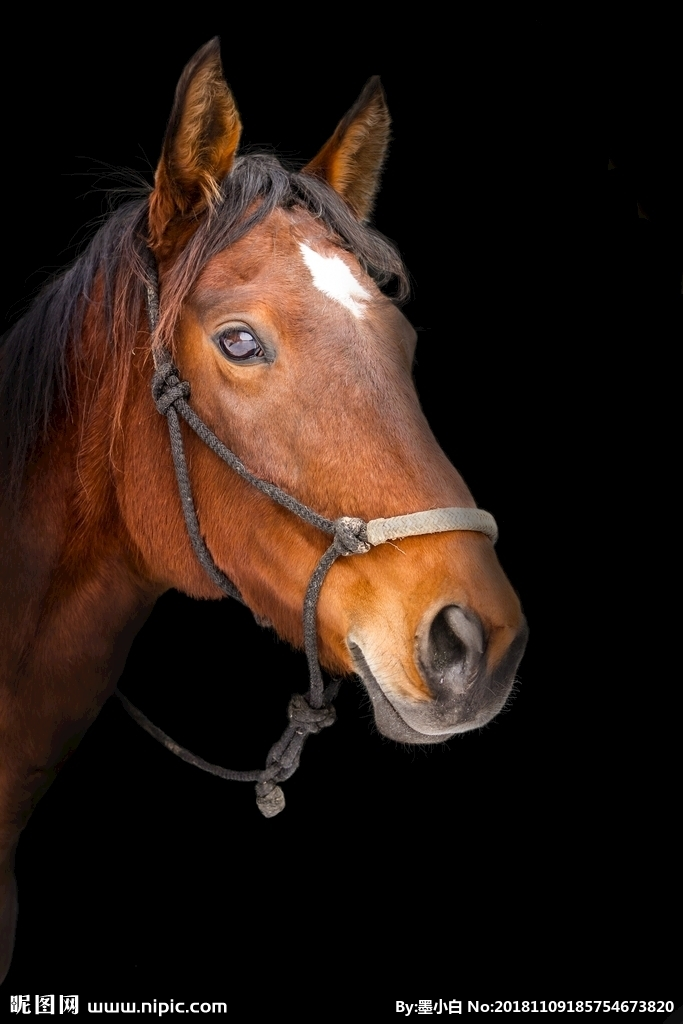horse: (1, 30, 541, 996)
